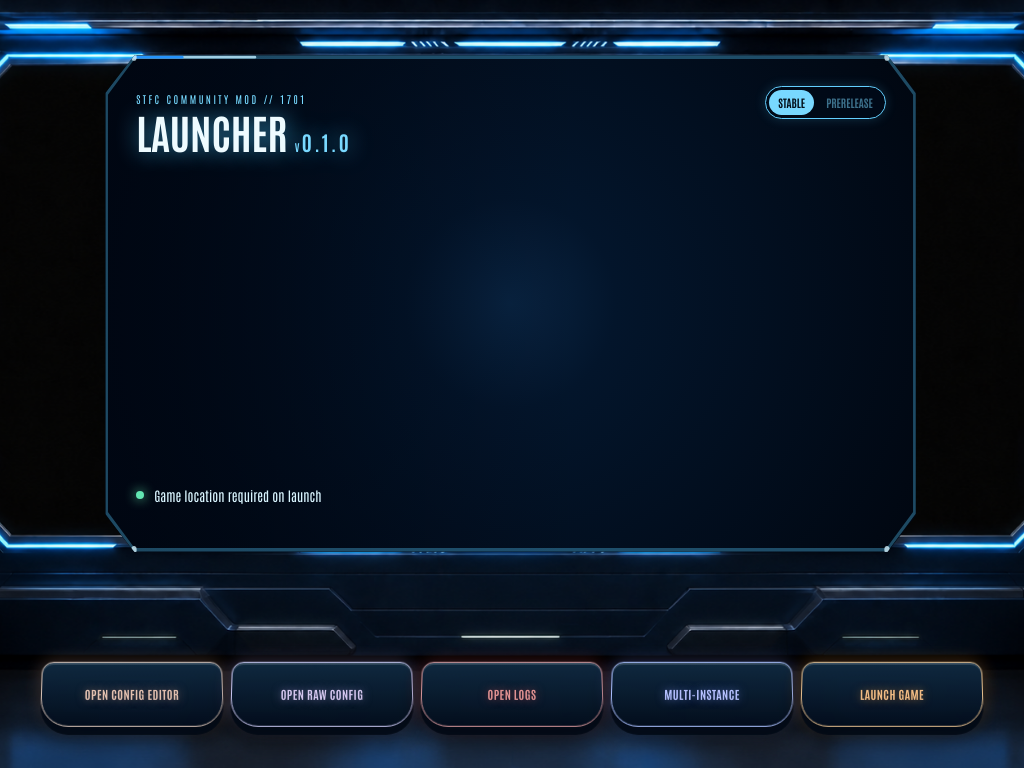
MainLauncher › prompts for a game folder when launch reports an unknown path
The image size is (1024, 768).
Click the button "Launch Game". click: (892,694)
box: left=800, top=662, right=984, bottom=726
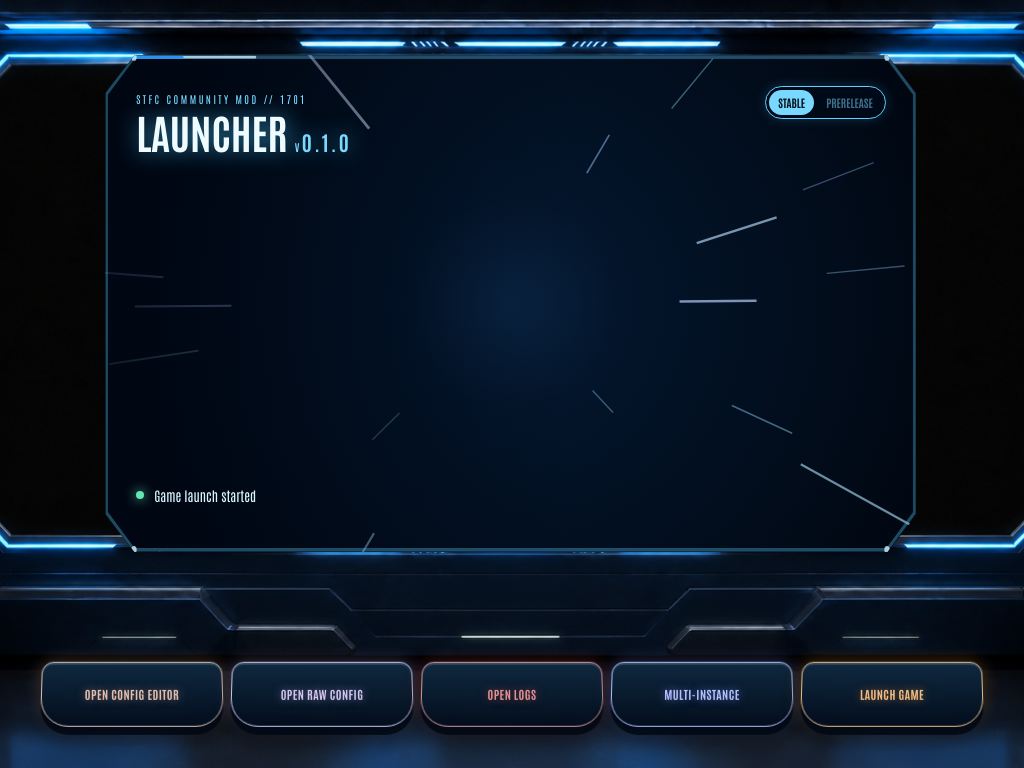
Now the text "Game launch started" is shown, box left=154, top=487, right=256, bottom=504
